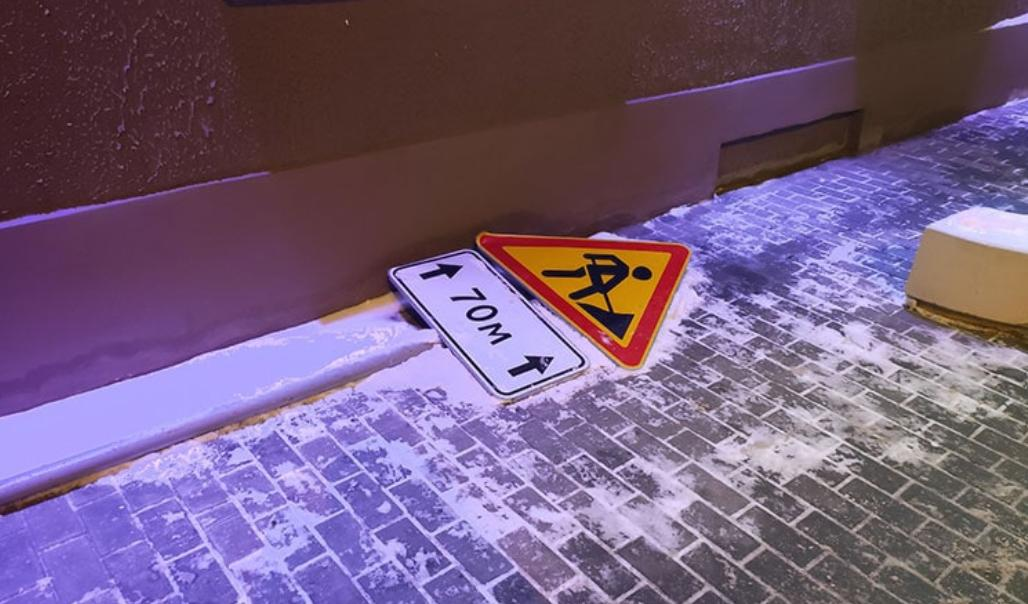road_sign: (388, 250, 588, 400), (477, 233, 689, 368)
